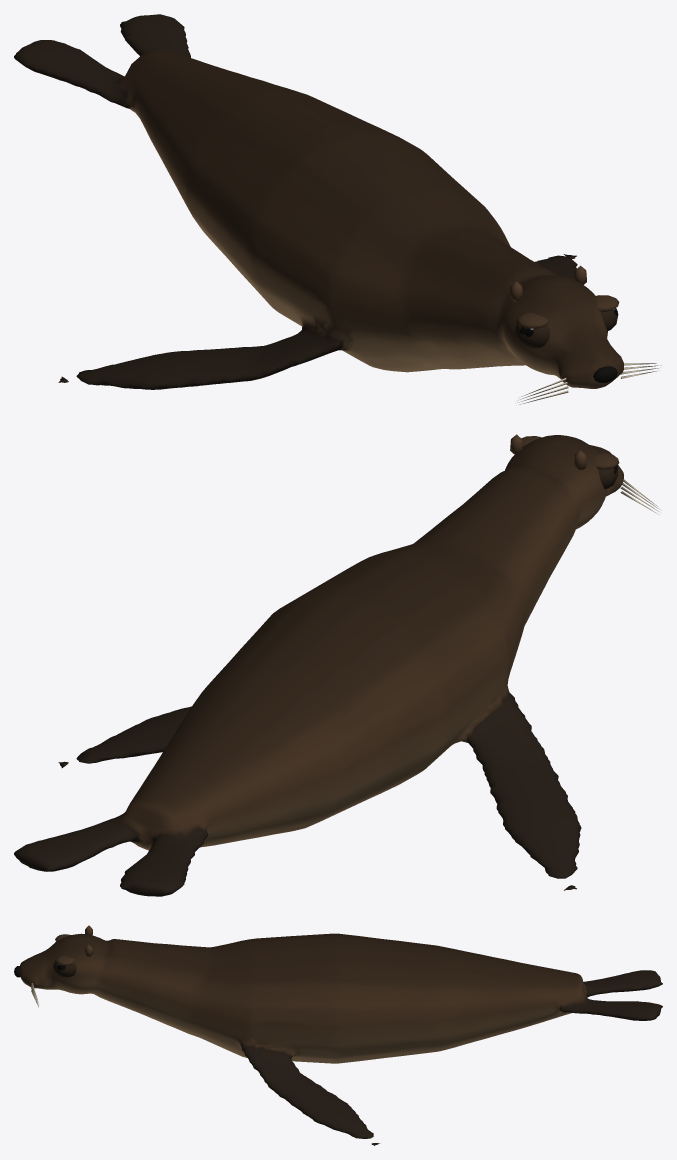
The model's file is AllodesmusKernensis.fbx.
3 renders of one model, top to bottom at view 1: azimuth 30°, elevation 25°; view 2: azimuth 150°, elevation 25°; view 3: azimuth 270°, elevation 25°, orthographic. The views are drawn at different scales.
Visible parts, largest first — view 1: AllodesmusKernensis; view 2: AllodesmusKernensis; view 3: AllodesmusKernensis.
Boxes of the visible parts, bbox=[...] form: AllodesmusKernensis: bbox=[14, 14, 661, 404]; AllodesmusKernensis: bbox=[14, 434, 659, 896]; AllodesmusKernensis: bbox=[14, 925, 662, 1145].
Bounding box in the file's own units: 0.9729 × 0.3855 × 1.7.
